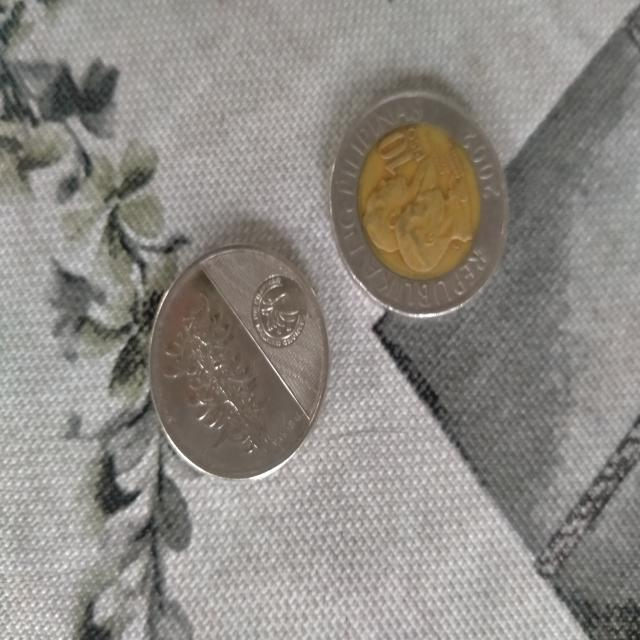10_Old_Front: (333, 86, 517, 314)
5_New_Back: (156, 312, 266, 478)
